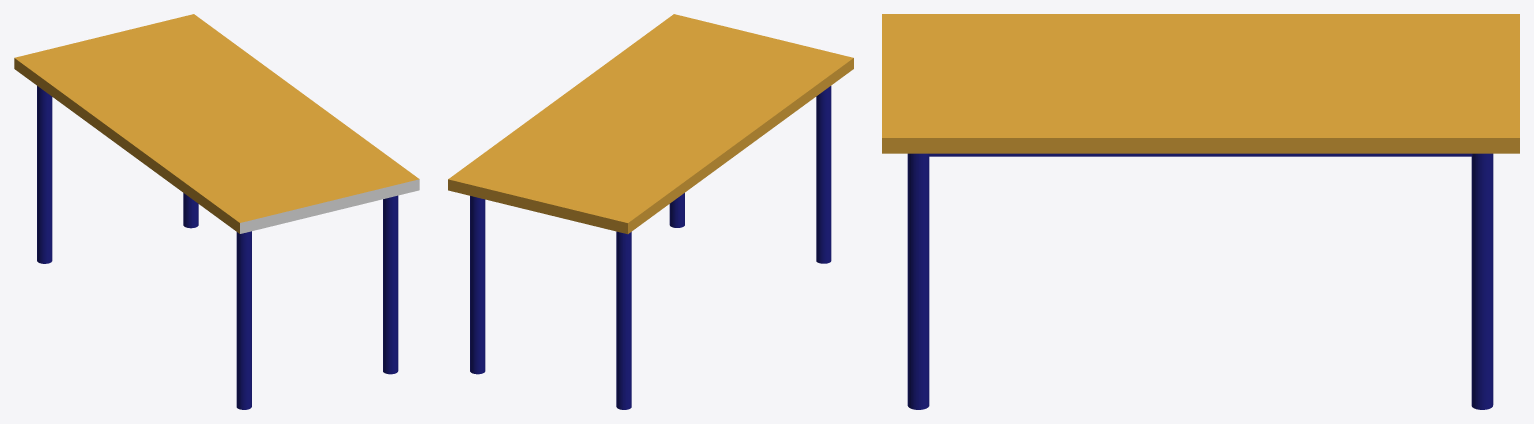
The model's file is table.fbx.
3 renders of one model, left to right at view 1: azimuth 30°, elevation 25°; view 2: azimuth 150°, elevation 25°; view 3: azimuth 270°, elevation 25°, orthographic. The views are drawn at different scales.
Visible parts, largest first — view 1: Cube, Cylinder.002; view 2: Cube, Cylinder.002; view 3: Cube, Cylinder.002.
Boxes of the visible parts, x1=… form: Cube: x1=14, y1=14, x2=419, y2=233; Cylinder.002: x1=37, y1=86, x2=398, y2=409; Cube: x1=448, y1=14, x2=853, y2=234; Cylinder.002: x1=470, y1=86, x2=831, y2=409; Cube: x1=882, y1=14, x2=1519, y2=156; Cylinder.002: x1=907, y1=153, x2=1493, y2=409.
Bounding box in the file's own units: 200 × 210 × 435.
